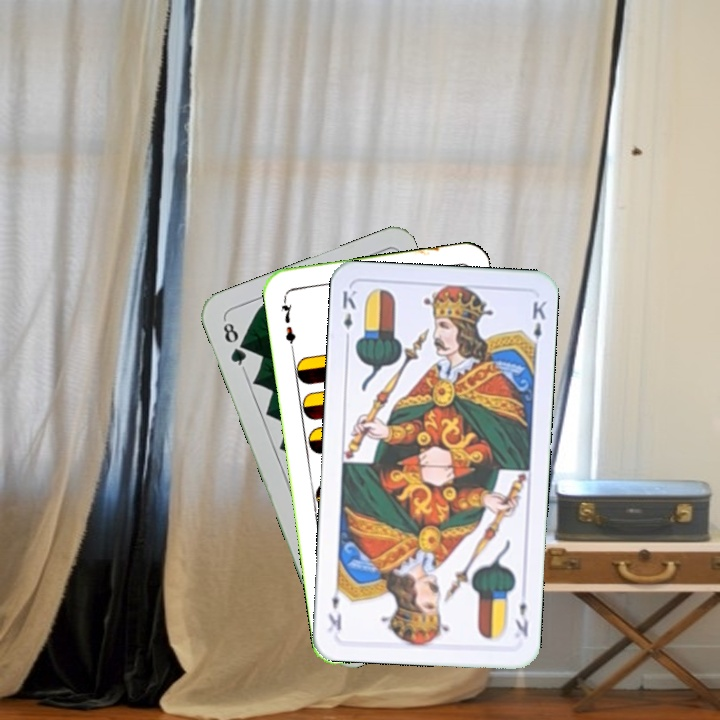E7: (276, 293, 298, 352)
EK: (338, 286, 359, 345), (511, 598, 531, 639)
G8: (218, 316, 249, 373)
